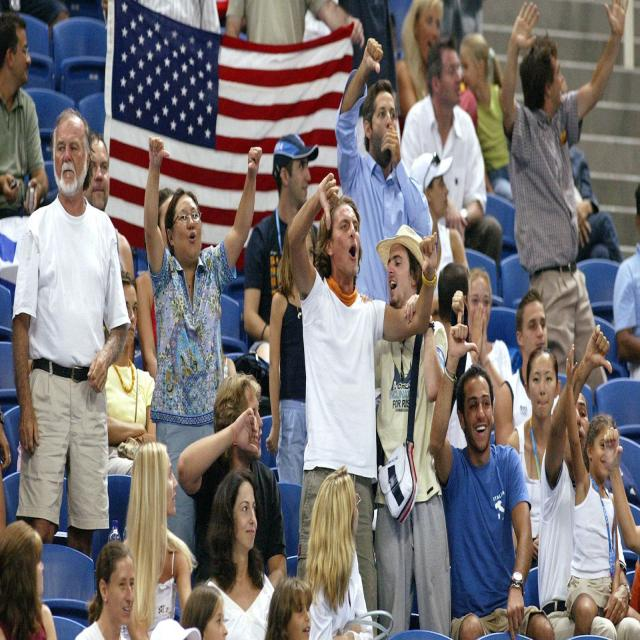body: (287, 169, 440, 638), (142, 134, 262, 625), (10, 104, 131, 560), (500, 0, 628, 408), (429, 318, 559, 640), (360, 221, 455, 639), (537, 325, 633, 639), (333, 35, 435, 302), (398, 39, 504, 281), (142, 182, 226, 476), (176, 373, 289, 589), (563, 342, 631, 639), (264, 224, 316, 580), (242, 131, 319, 346), (118, 441, 193, 640), (503, 346, 563, 564), (302, 465, 376, 640), (559, 73, 624, 264), (205, 468, 275, 640), (0, 413, 53, 640), (104, 268, 158, 480), (492, 286, 561, 449), (148, 576, 319, 640), (408, 150, 469, 323), (459, 31, 518, 206), (0, 7, 48, 220), (447, 267, 513, 403), (66, 532, 141, 640), (84, 132, 135, 285), (224, 0, 364, 51), (436, 262, 473, 450), (394, 0, 446, 129), (602, 425, 640, 584), (614, 173, 640, 388), (134, 0, 222, 35), (298, 0, 345, 42), (27, 0, 72, 25), (221, 350, 237, 374)
